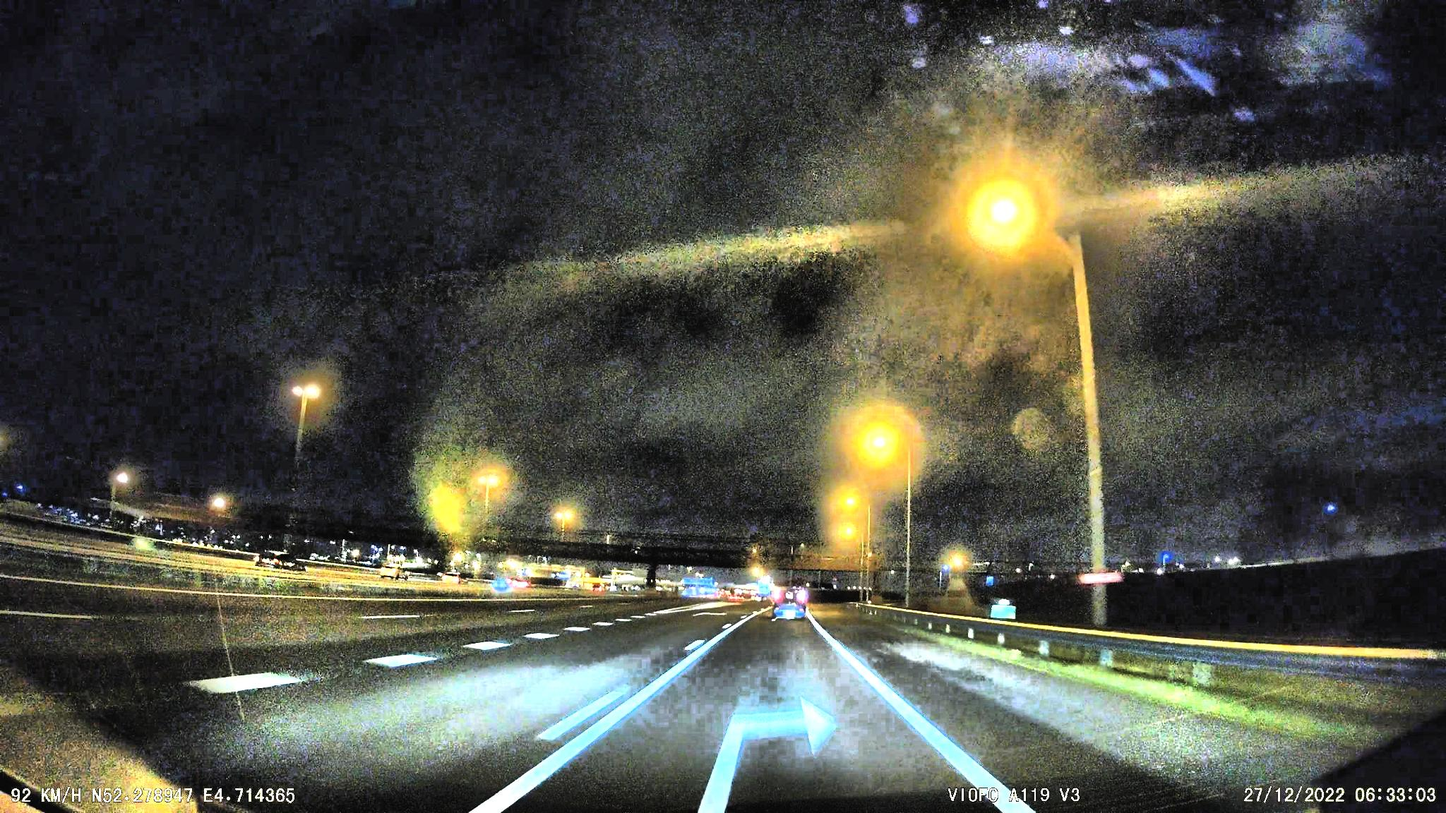Roads: (0, 604, 1236, 813)
